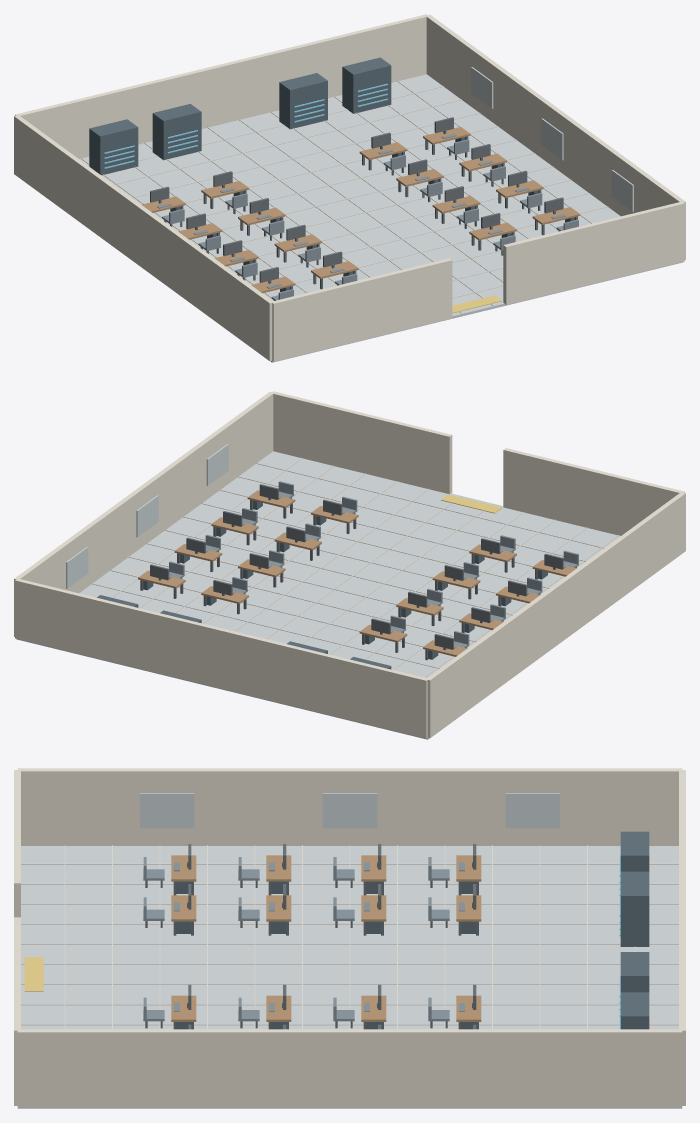
Rendered from server.glb.
The picture shows the model from 3 angles, top to bottom: view 1: azimuth 30°, elevation 25°; view 2: azimuth 150°, elevation 25°; view 3: azimuth 270°, elevation 25°; orthographic projection. The views are drawn at different scales.
Parts seen in each view (by area): view 1: room_server__E8DDC2, room_server__B5C1C8, room_server__22303A, room_server__8D5A34, room_server__E6DCC6, room_server__2B3238, room_server__4A5A66, room_server__B4C7CD, room_server__4FC3F7; view 2: room_server__E8DDC2, room_server__B5C1C8, room_server__E6DCC6, room_server__8D5A34, room_server__2B3238, room_server__4A5A66, room_server__22303A, room_server__B4C7CD; view 3: room_server__E8DDC2, room_server__B5C1C8, room_server__E6DCC6, room_server__22303A, room_server__8D5A34, room_server__B4C7CD, room_server__4A5A66, room_server__2B3238, room_server__E7B54A.
Boxes of the visible parts, box(x1,y1,x2,y2) form: room_server__E8DDC2: box(14, 14, 685, 361); room_server__B5C1C8: box(79, 74, 683, 362); room_server__22303A: box(89, 57, 574, 291); room_server__8D5A34: box(141, 127, 579, 293); room_server__E6DCC6: box(80, 81, 608, 313); room_server__2B3238: box(150, 117, 577, 300); room_server__4A5A66: box(157, 133, 578, 300); room_server__B4C7CD: box(471, 67, 633, 211); room_server__4FC3F7: box(104, 83, 387, 168); room_server__E8DDC2: box(14, 391, 685, 738); room_server__B5C1C8: box(16, 451, 620, 739); room_server__E6DCC6: box(91, 458, 619, 677); room_server__8D5A34: box(138, 490, 576, 656); room_server__2B3238: box(140, 484, 576, 660); room_server__4A5A66: box(169, 481, 578, 648); room_server__22303A: box(97, 500, 547, 669); room_server__B4C7CD: box(66, 444, 228, 588); room_server__E8DDC2: box(14, 768, 685, 1107); room_server__B5C1C8: box(17, 846, 682, 1108); room_server__E6DCC6: box(21, 845, 678, 1029); room_server__22303A: box(176, 831, 649, 1029); room_server__8D5A34: box(171, 855, 481, 1021); room_server__B4C7CD: box(140, 793, 559, 828); room_server__4A5A66: box(143, 857, 464, 1021); room_server__2B3238: box(145, 844, 478, 1029); room_server__E7B54A: box(24, 957, 43, 991).
Size of the model in its own units: 26.3 by 3.62 by 28.3.
